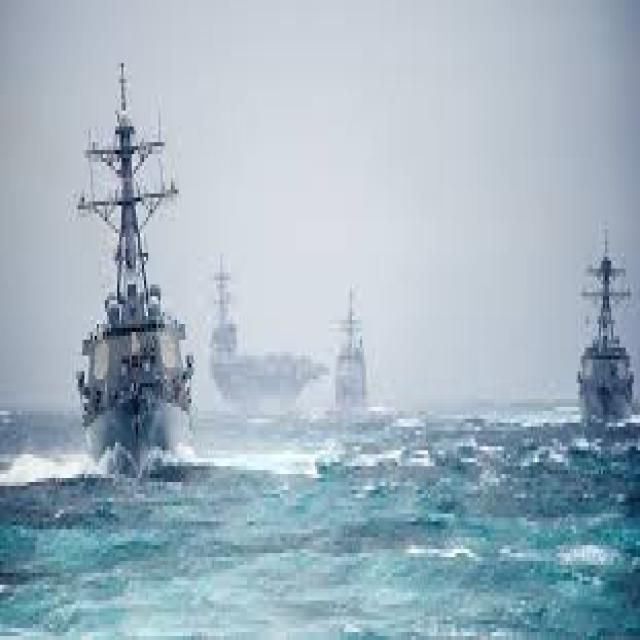navalvessels: (62, 54, 195, 468), (202, 258, 333, 422), (574, 233, 640, 433), (325, 278, 371, 410)
